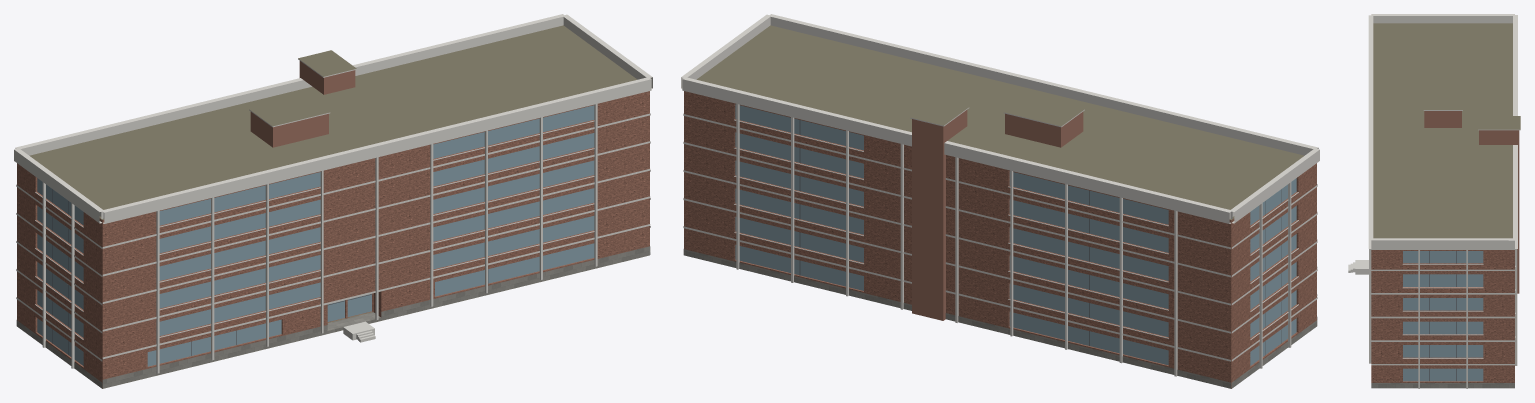
3 renders of one model, left to right at view 1: azimuth 30°, elevation 25°; view 2: azimuth 150°, elevation 25°; view 3: azimuth 270°, elevation 25°, orthographic. The views are drawn at different scales.
Visible parts, largest first — view 1: edu11__wall, edu11__roof, edu11__trim, edu11__glass, edu11__base, edu11__wall2; view 2: edu11__wall, edu11__roof, edu11__trim, edu11__glass, edu11__wall2, edu11__base; view 3: edu11__roof, edu11__wall, edu11__trim, edu11__glass, edu11__wall2, edu11__base, edu11__entranceStair.
Part boxes in pixels (x1=…): edu11__wall: x1=17, y1=91, x2=649, y2=388; edu11__roof: x1=29, y1=25, x2=646, y2=388; edu11__trim: x1=14, y1=14, x2=652, y2=373; edu11__glass: x1=37, y1=105, x2=594, y2=366; edu11__base: x1=16, y1=246, x2=650, y2=388; edu11__wall2: x1=250, y1=61, x2=355, y2=147; edu11__wall: x1=684, y1=91, x2=1316, y2=388; edu11__roof: x1=696, y1=25, x2=1304, y2=219; edu11__trim: x1=681, y1=14, x2=1319, y2=376; edu11__glass: x1=735, y1=104, x2=1296, y2=365; edu11__wall2: x1=912, y1=110, x2=1083, y2=320; edu11__base: x1=683, y1=249, x2=1317, y2=388; edu11__roof: x1=1373, y1=23, x2=1520, y2=238; edu11__wall: x1=1371, y1=250, x2=1514, y2=382; edu11__trim: x1=1368, y1=14, x2=1520, y2=388; edu11__glass: x1=1403, y1=251, x2=1483, y2=381; edu11__wall2: x1=1424, y1=111, x2=1519, y2=293; edu11__base: x1=1371, y1=383, x2=1514, y2=388; edu11__entranceStair: x1=1348, y1=260, x2=1368, y2=274.
Size of the model in its own units: 74.16 by 25.56 by 23.81.
Materials: 9 (2 with a texture image).
